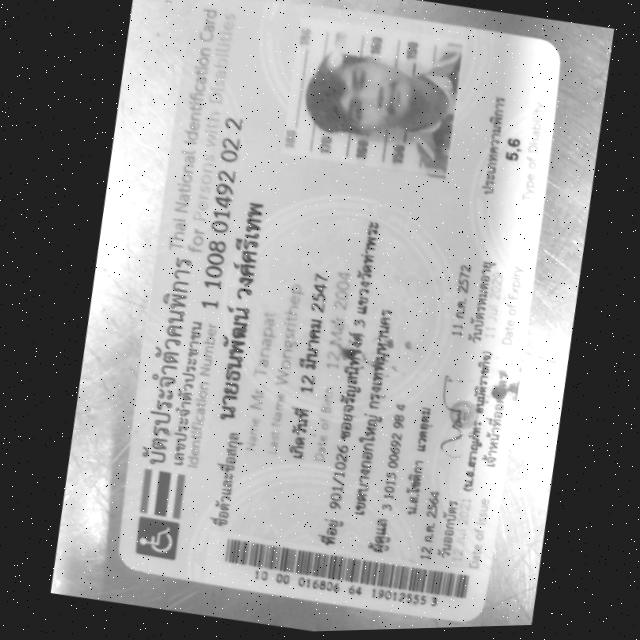card: (120, 0, 559, 621)
